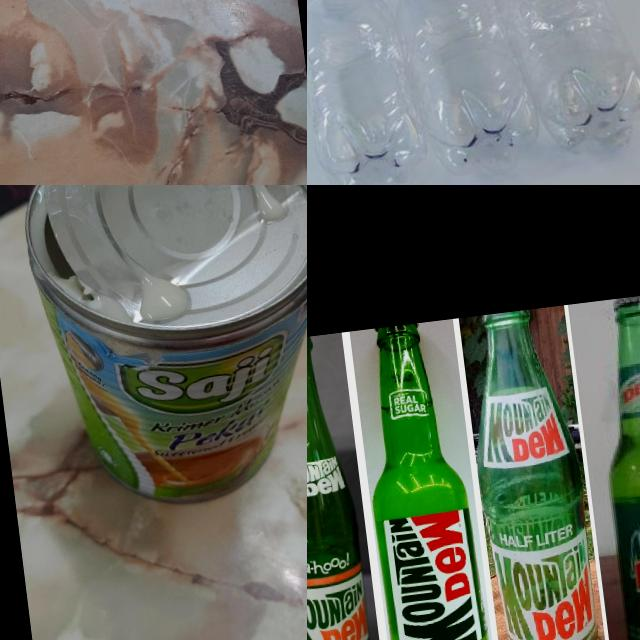garrafa de vidro: (459, 305, 600, 640), (350, 319, 495, 640), (307, 333, 377, 640), (587, 290, 640, 640)
garrafa plástica: (370, 0, 545, 184), (463, 0, 640, 165), (307, 0, 431, 185)
lata: (8, 185, 307, 512)
